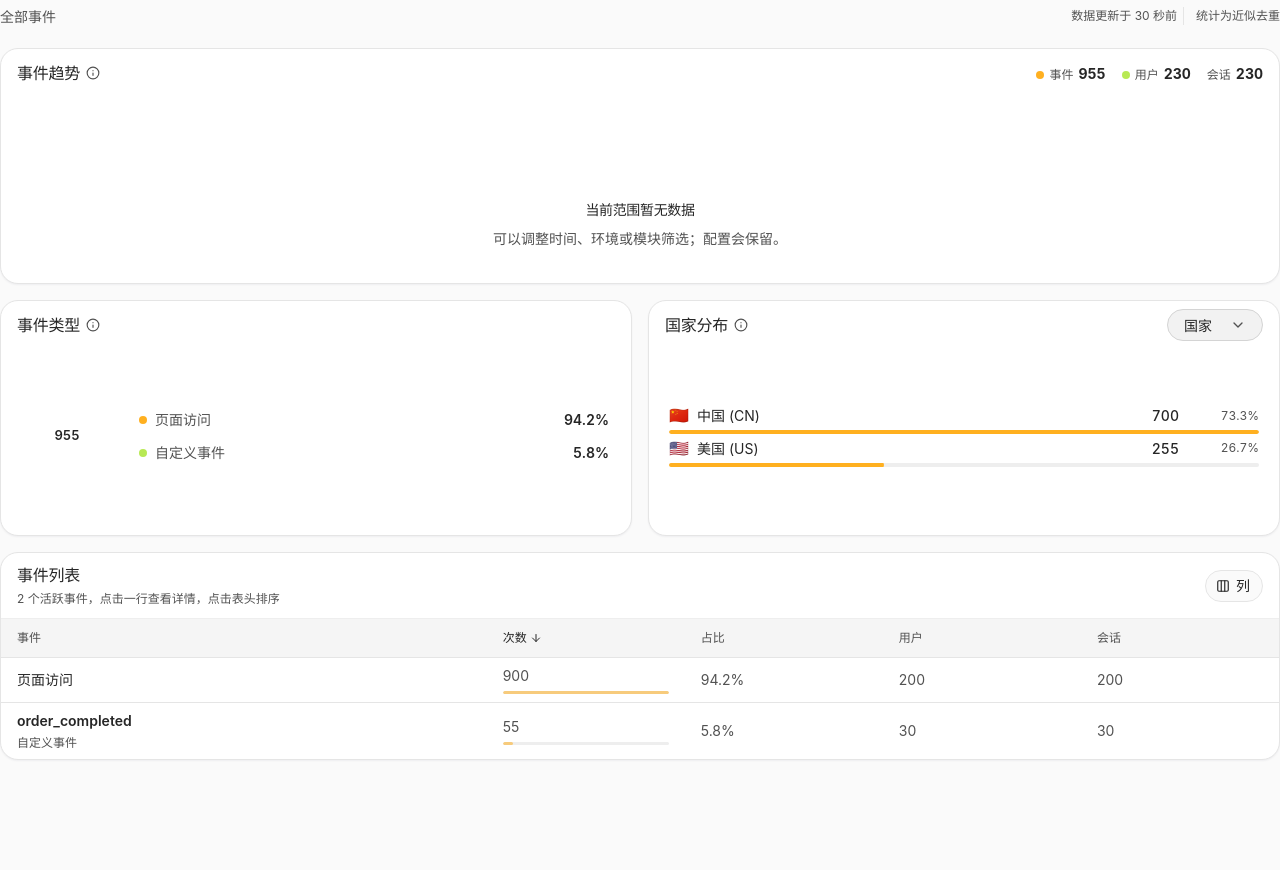
Scenario: event explorer › shows measurements in the drawer only when the event has them
Click the text "order_completed": (74, 720) [1,702,1279,759]
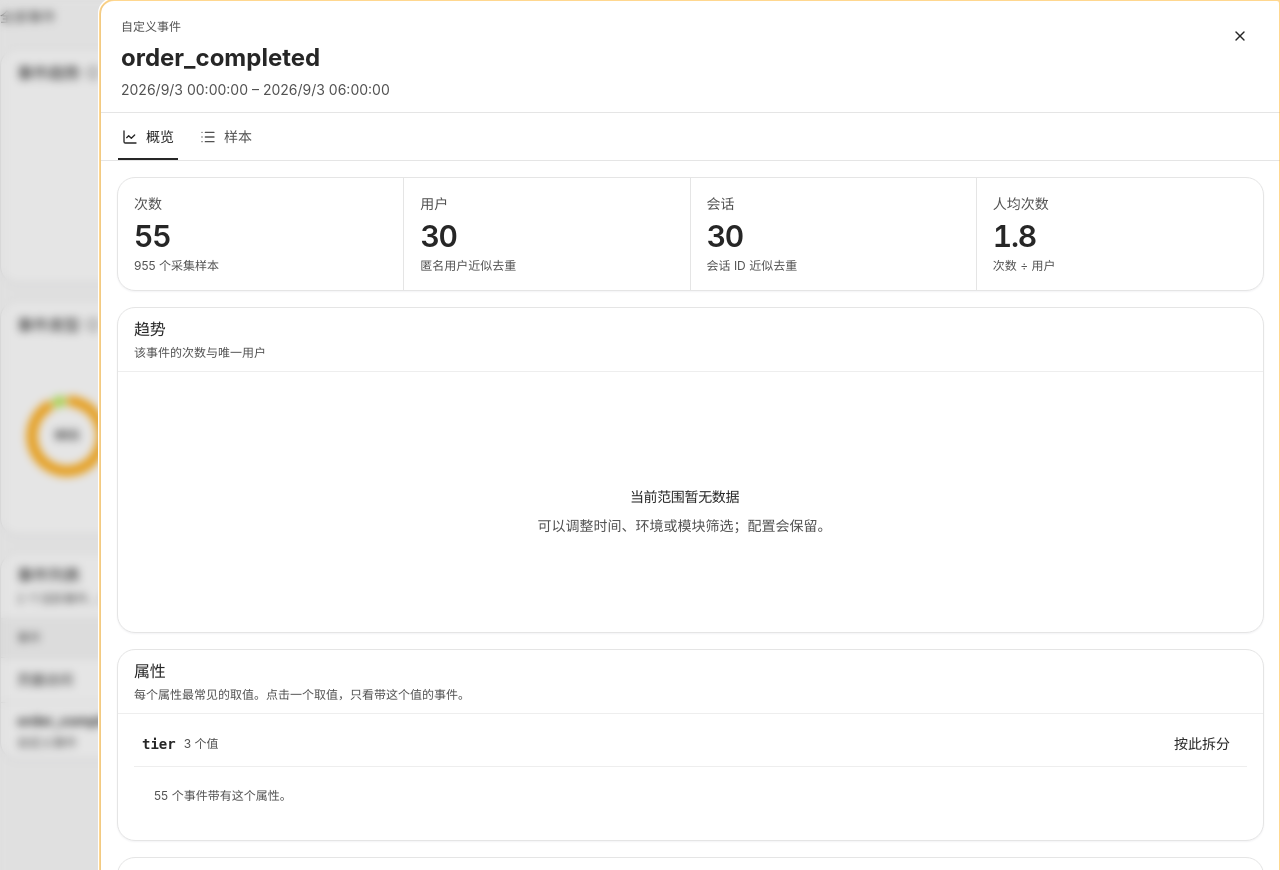
Check: the heading "趋势" is shown, box [134,319,166,339]
